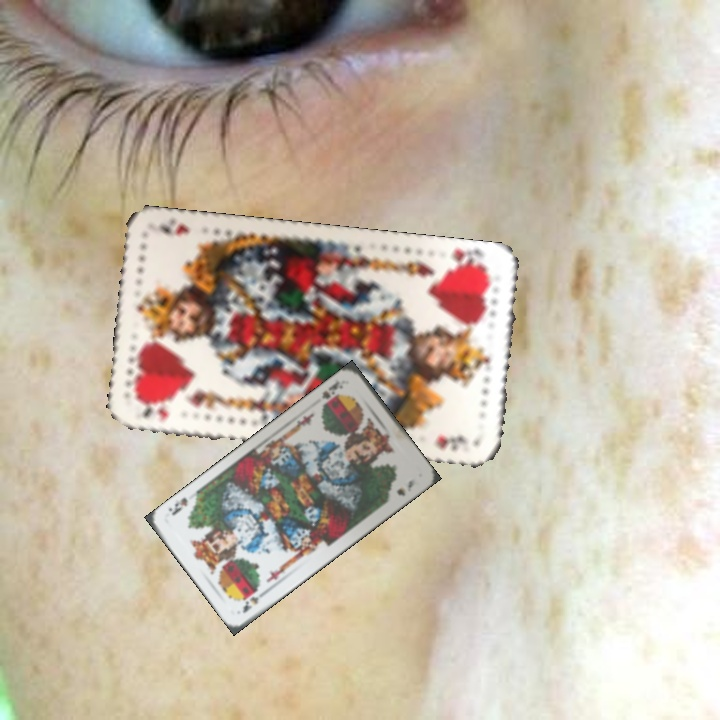HK: (443, 245, 490, 275), (132, 398, 172, 423)
SK: (238, 585, 270, 616), (317, 376, 346, 402)
